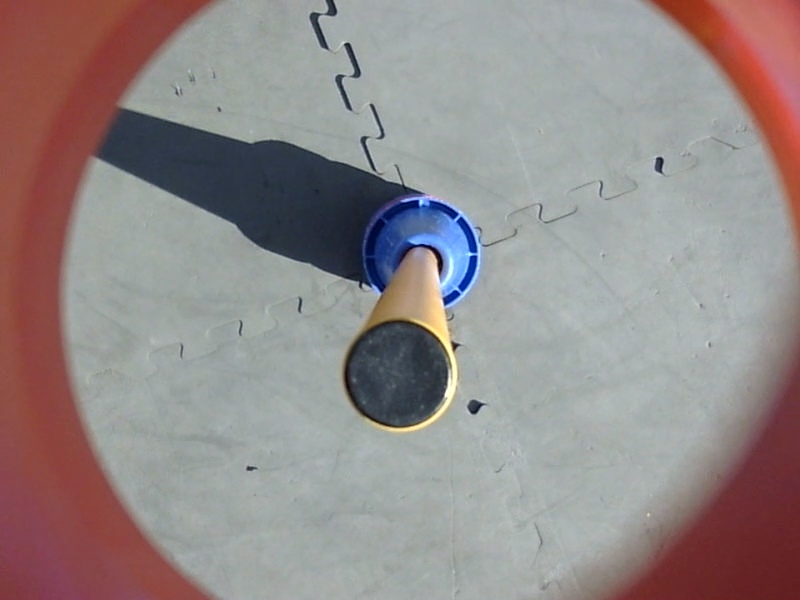tip: (337, 314, 464, 439)
